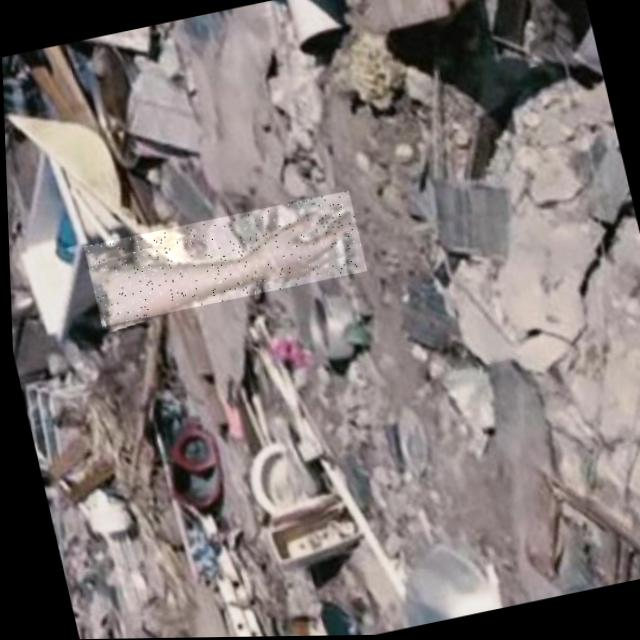Person in Rubble: (80, 191, 367, 326)
